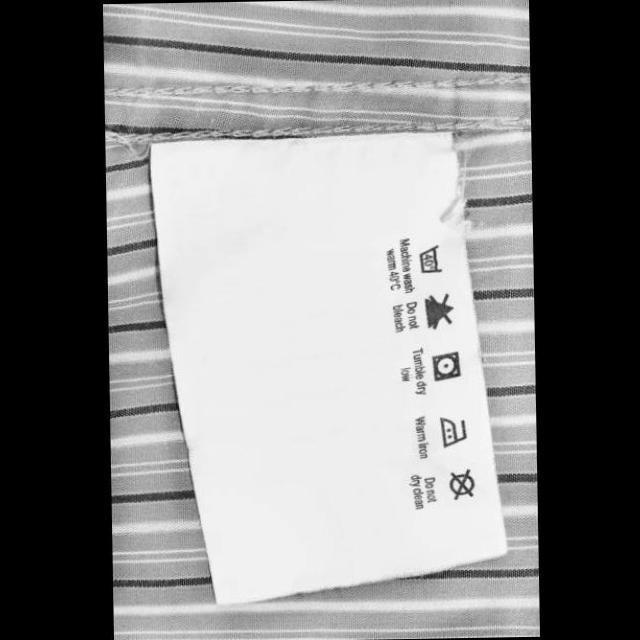40C: (416, 244, 444, 274)
DN_bleach: (422, 291, 456, 331)
DN_dry_clean: (446, 468, 476, 501)
iron_medium: (437, 414, 468, 450)
tumble_dry_low: (428, 349, 462, 383)
